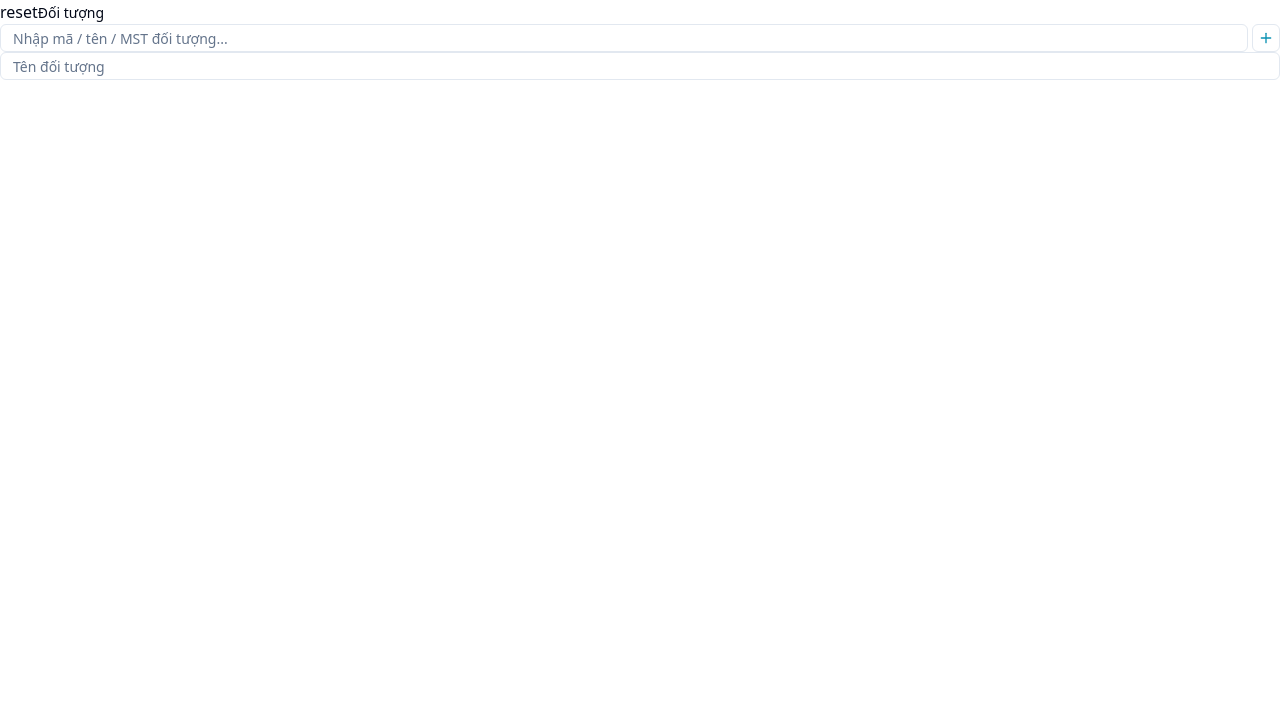
quick add and catalog › F4 opens the quick add with the trimmed typed text; the supplier box is disabled without suppliers.create
The width and height of the screenshot is (1280, 720).
Type "  abc " into the dropdown labelled "Đối tượng" at (624, 38), box [0,24,1248,52]
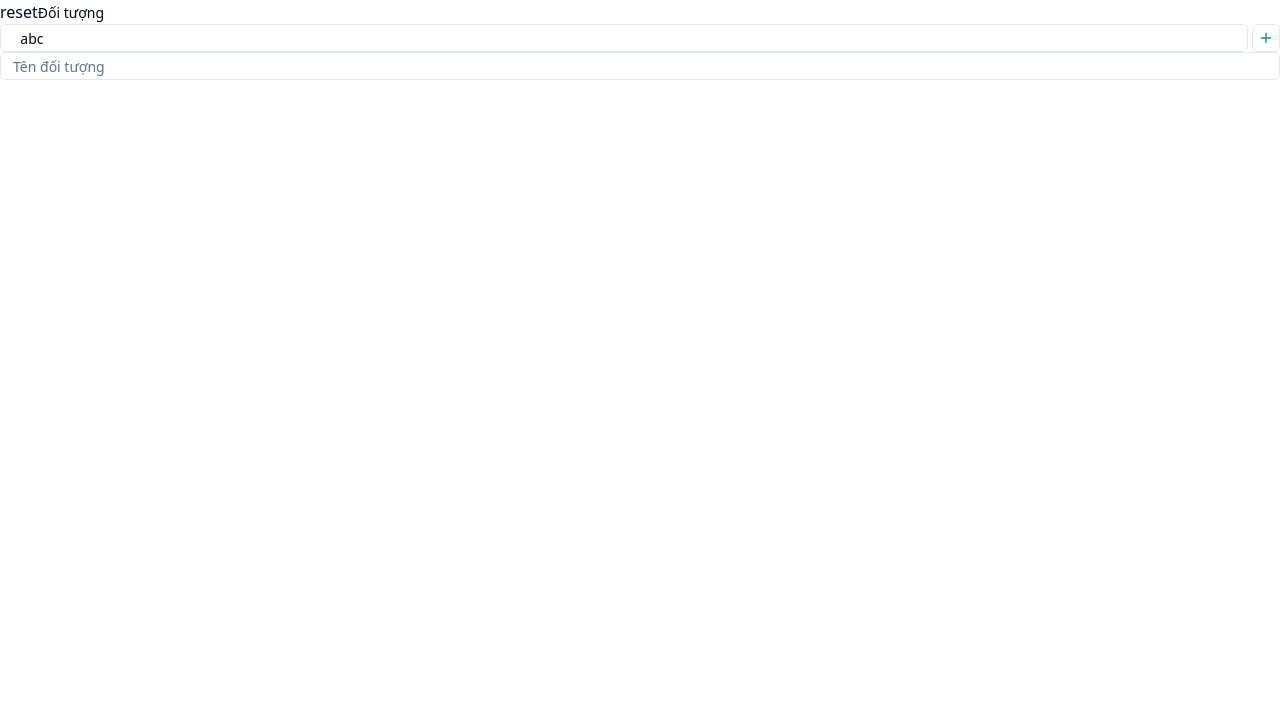
Press F4 in the dropdown labelled "Đối tượng", box [0,24,1248,52]
(page scrolled)
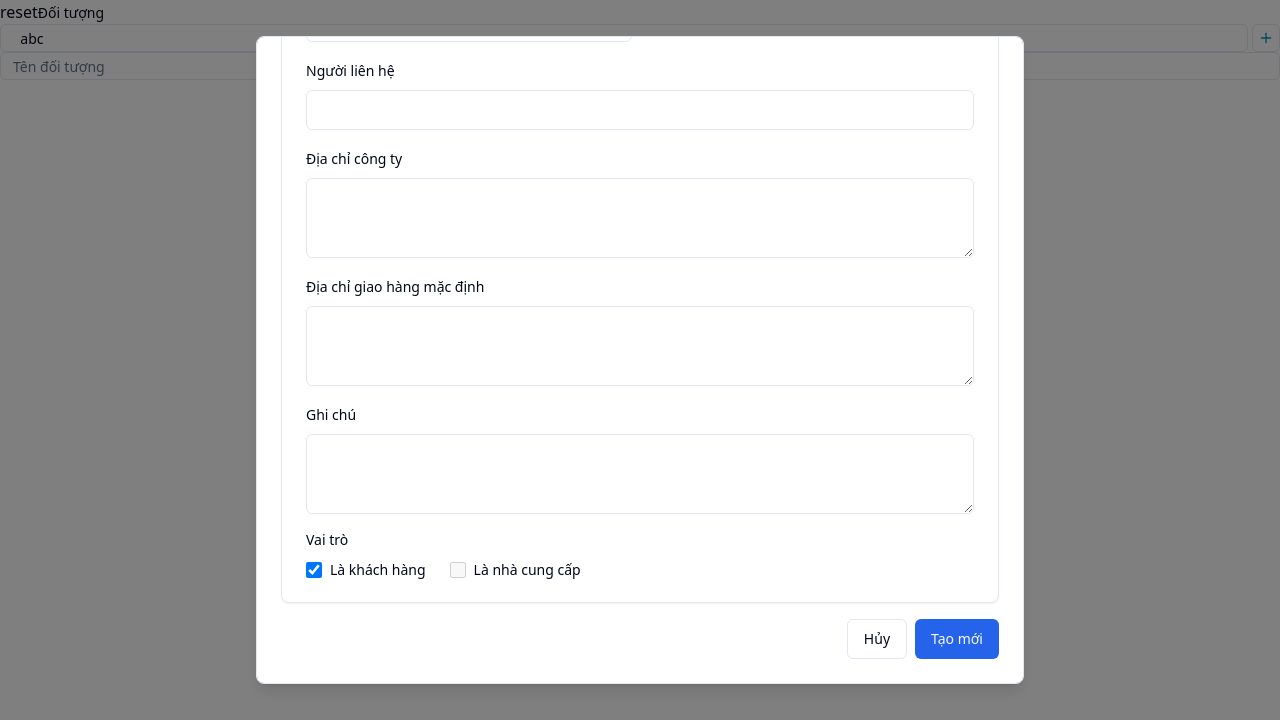
Now the checkbox labelled "Là nhà cung cấp" is disabled, box [450,562,466,578]
